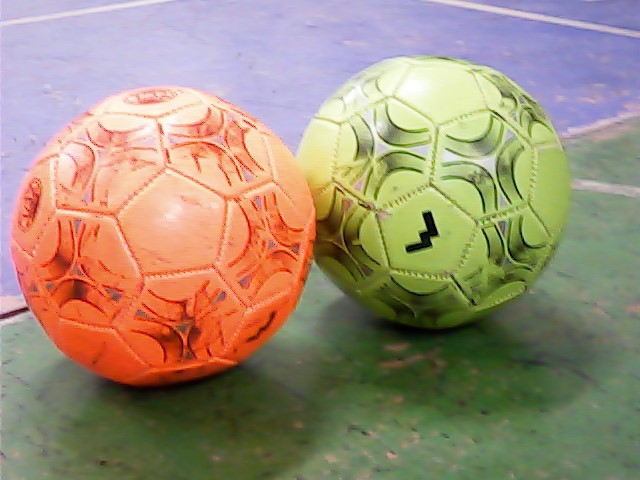Green_ball: (296, 28, 580, 340)
Orange_ball: (12, 50, 323, 387)
